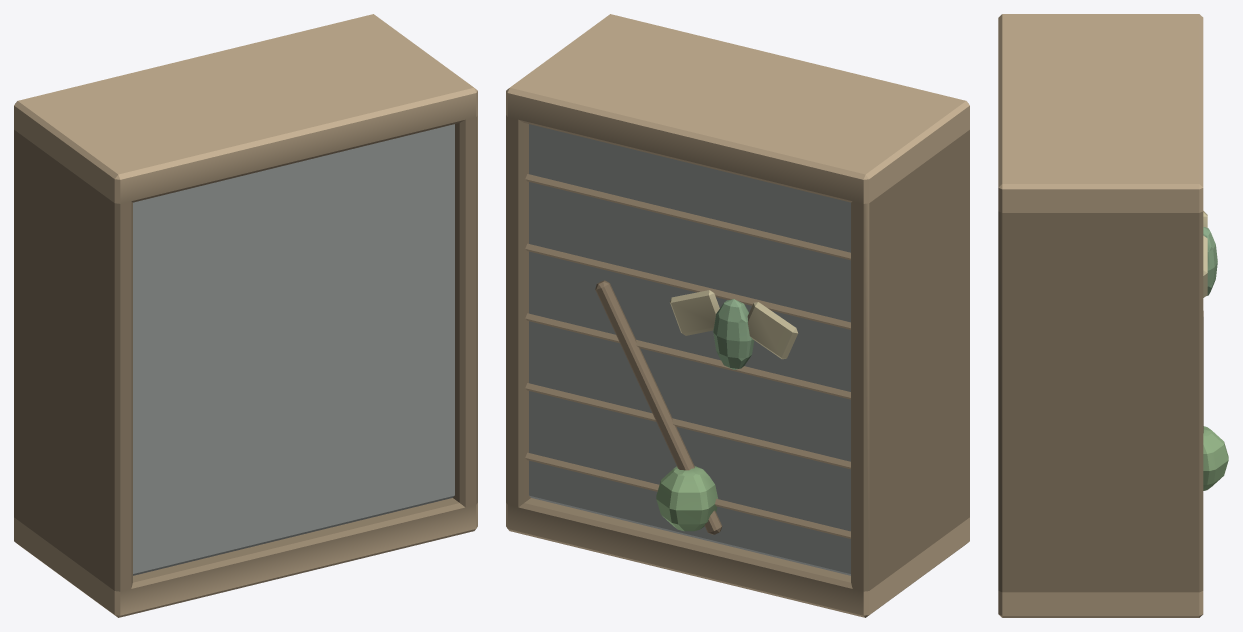
File: furn_insect_case__oak.glb
3 views of the same model, side by side, from view 1: azimuth 30°, elevation 25°; view 2: azimuth 150°, elevation 25°; view 3: azimuth 270°, elevation 25° (orthographic). The views are drawn at different scales.
Size of the model in its own units: 0.6 by 0.7 by 0.3369.
